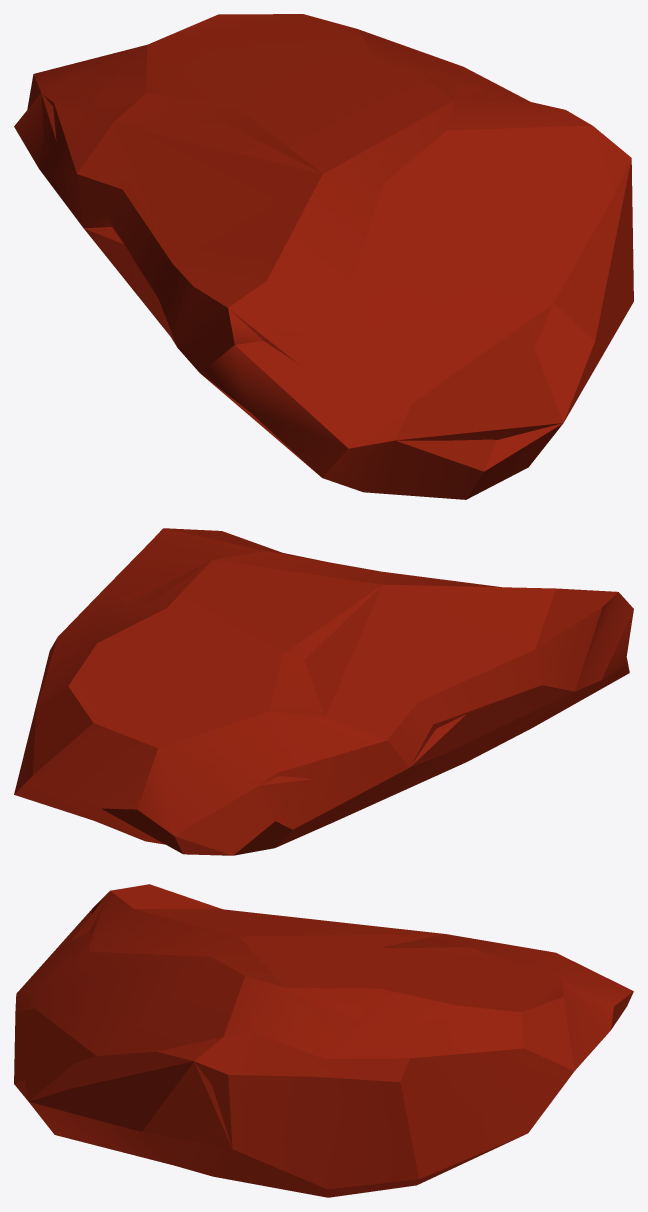
The model's file is SM_Large_Rock_01.fbx.
3 renders of one model, top to bottom at view 1: azimuth 30°, elevation 25°; view 2: azimuth 150°, elevation 25°; view 3: azimuth 270°, elevation 25°, orthographic. The views are drawn at different scales.
Parts seen in each view (by area): view 1: SM_Large_Rock_01, SM_Large_Rock_01_col; view 2: SM_Large_Rock_01, SM_Large_Rock_01_col; view 3: SM_Large_Rock_01, SM_Large_Rock_01_col.
Part boxes in pixels (box(x1,y1,x2,y2)): SM_Large_Rock_01: box(14, 14, 633, 499); SM_Large_Rock_01_col: box(41, 45, 569, 440); SM_Large_Rock_01: box(14, 528, 633, 855); SM_Large_Rock_01_col: box(14, 560, 570, 818); SM_Large_Rock_01: box(14, 884, 633, 1197); SM_Large_Rock_01_col: box(15, 891, 561, 1148).
Size of the model in its own units: 188 by 91.02 by 273.
